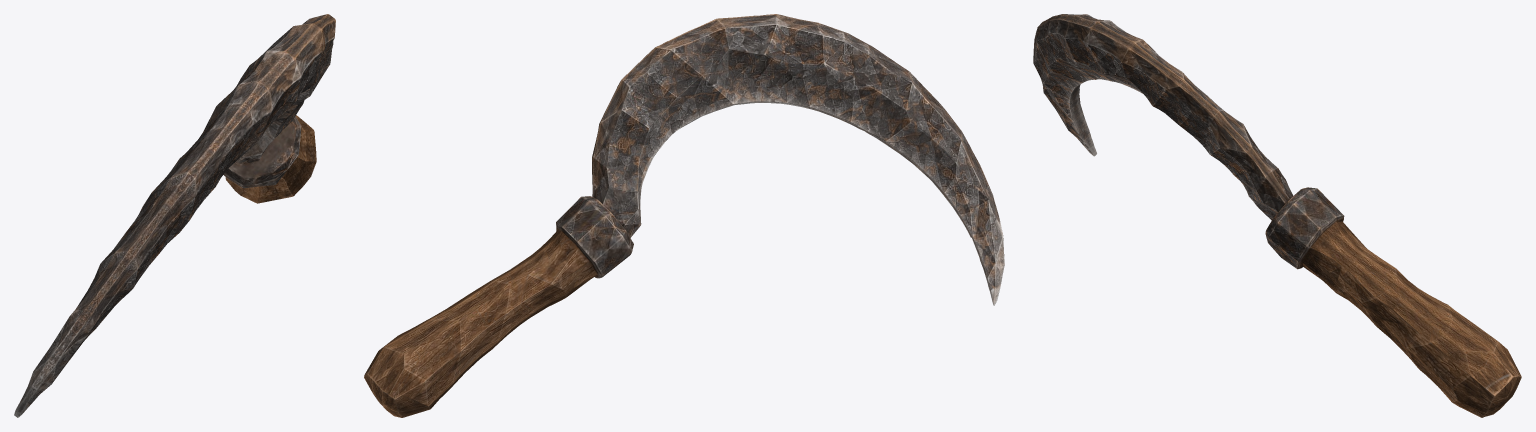
Rendered from farmer.glb.
The picture shows the model from 3 angles, left to right: view 1: azimuth 30°, elevation 25°; view 2: azimuth 150°, elevation 25°; view 3: azimuth 270°, elevation 25°; orthographic projection. The views are drawn at different scales.
Visible parts, largest first — view 1: Module_tool_farmer_0; view 2: Module_tool_farmer_0; view 3: Module_tool_farmer_0.
Part boxes in pixels (<box>): Module_tool_farmer_0: <box>14,14,335,417</box>; Module_tool_farmer_0: <box>364,14,1004,417</box>; Module_tool_farmer_0: <box>1033,14,1521,417</box>.
Bounding box in the file's own units: 0.3144 × 0.21 × 0.3072.
Materials: 1 (1 with a texture image).
